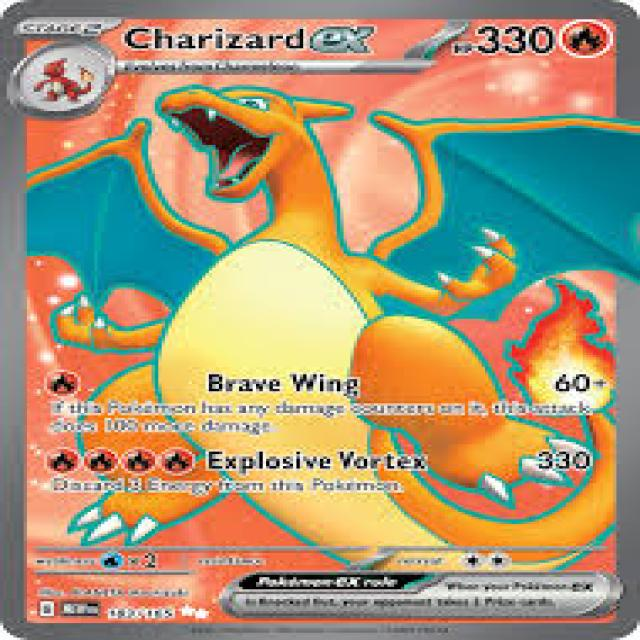charizard: (27, 78, 640, 590)
